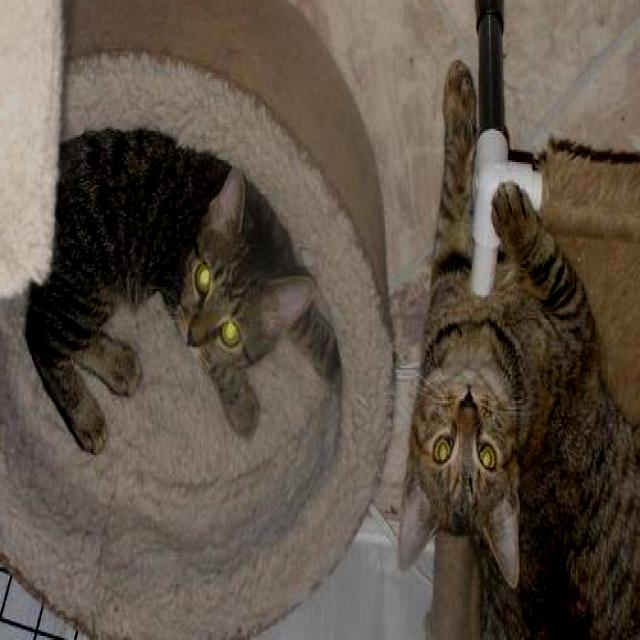Kucing: (369, 43, 639, 640), (0, 91, 343, 447)
